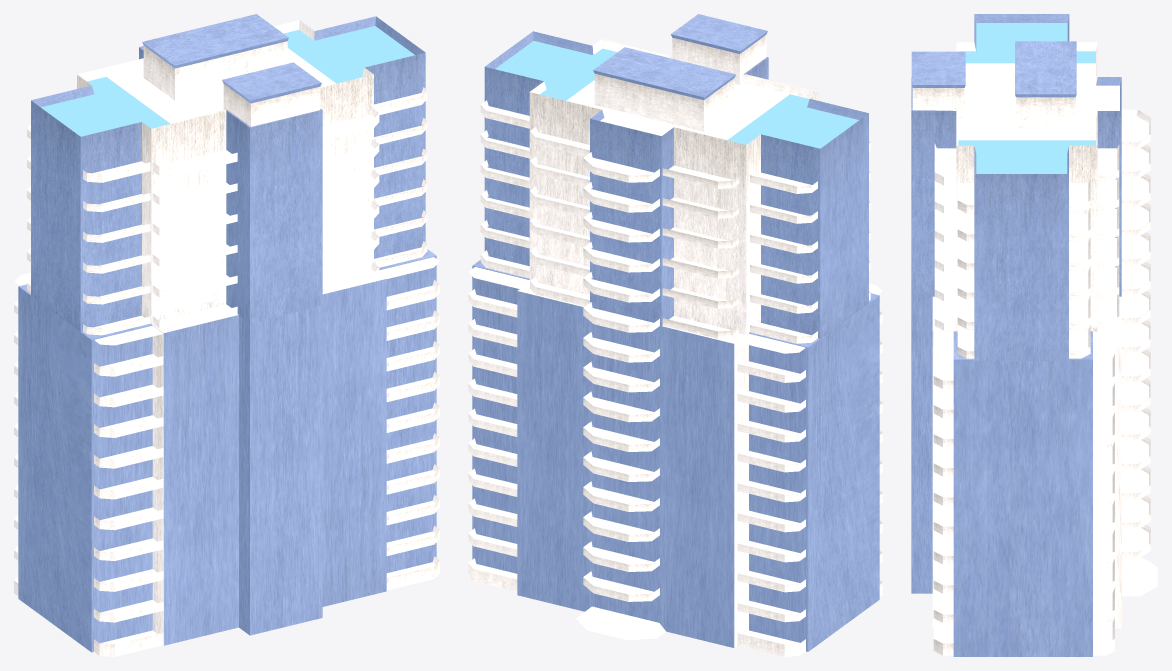
Rendered from ORB_8_16S_Detail_3.fbx.
The picture shows the model from 3 angles, left to right: view 1: azimuth 30°, elevation 25°; view 2: azimuth 150°, elevation 25°; view 3: azimuth 270°, elevation 25°; orthographic projection. The views are drawn at different scales.
Visible parts, largest first — view 1: ORB_8_16S_Detail_3; view 2: ORB_8_16S_Detail_3; view 3: ORB_8_16S_Detail_3.
Boxes of the visible parts, x1,y1,x2,y2 form: ORB_8_16S_Detail_3: (14, 14, 439, 656); ORB_8_16S_Detail_3: (468, 14, 882, 656); ORB_8_16S_Detail_3: (911, 14, 1157, 656).
Size of the model in its own units: 3002 by 4450 by 1951.
